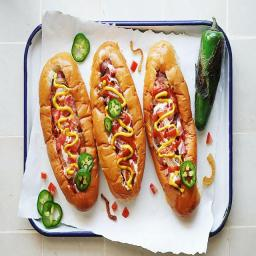hotdog: (143, 38, 201, 218), (36, 48, 98, 216), (100, 34, 145, 202)
